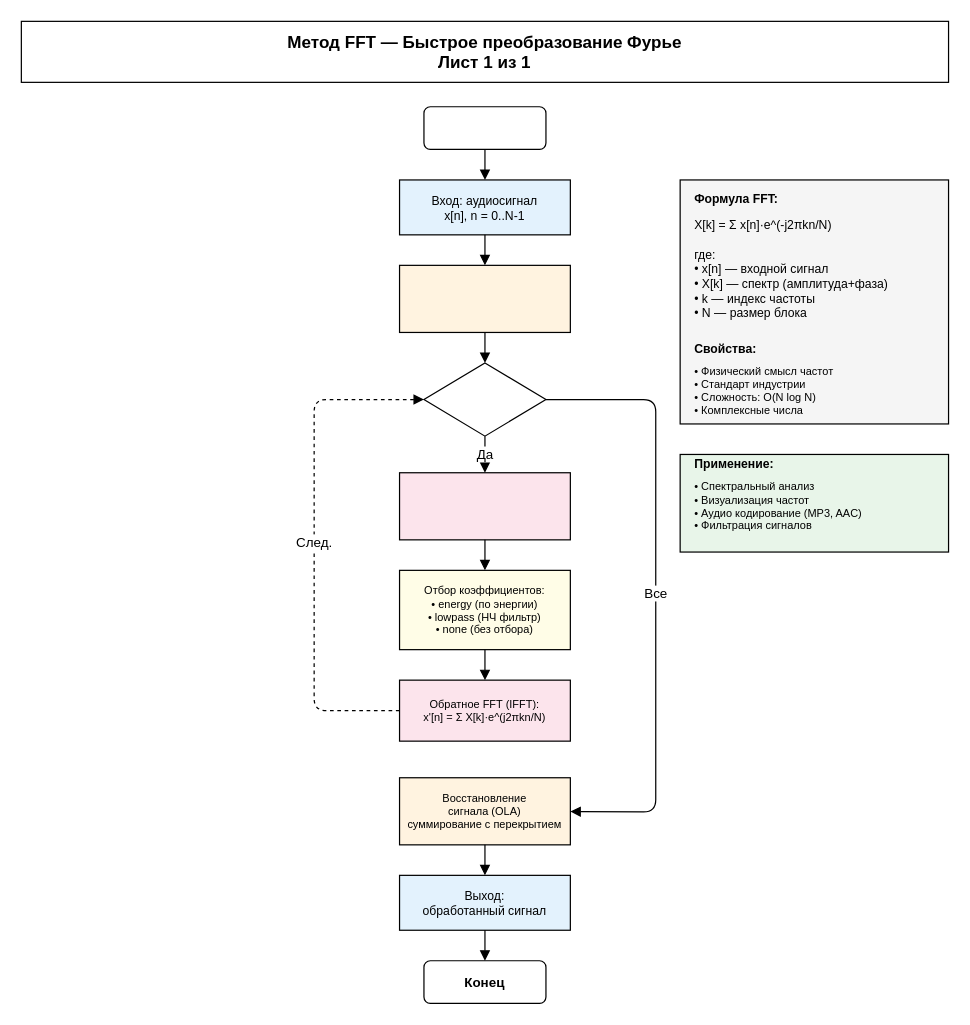
Image size: 970x1025. Some labels were removed from this diagram. The centre of each missing label's shape, as x and y in pixels:
Начало: pixel 484 127
Прямое FFT: X[k] = Σ x[n]·e^(-j2πkn/N) Комплексный спектр: pixel 484 506
Разбиение на блоки (Overlap-Add) с окном Ханна: pixel 484 298
Цикл по блокам?: pixel 484 399
